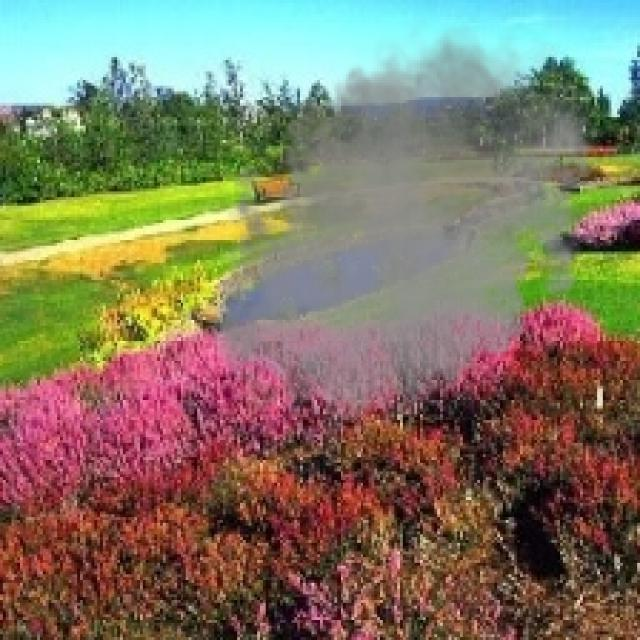Smoke: (205, 12, 606, 434)
